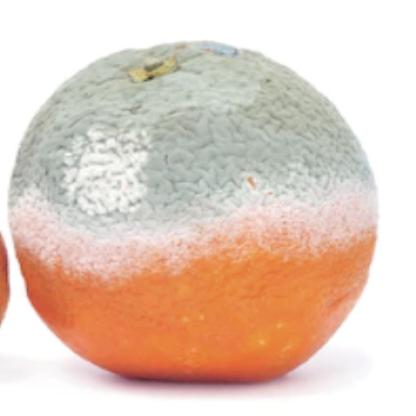fresh: (13, 39, 377, 393)
